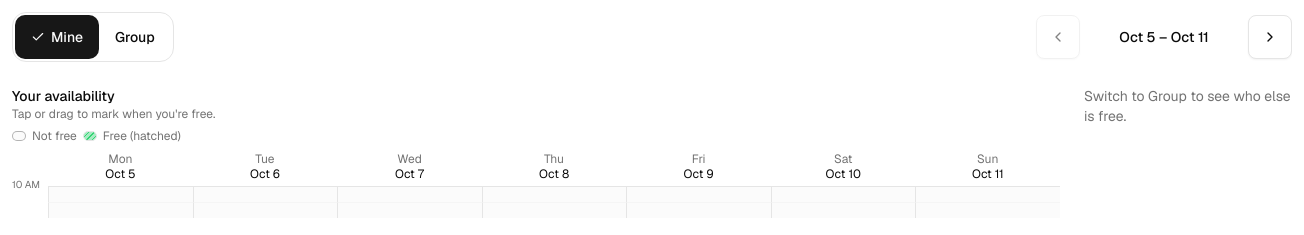
it: AvailabilityGrid › pages one calendar week at a time when more than five days are set
Check: the text "Oct 5 – Oct 11" is shown, box [1119,28,1209,46]
Check: the number of buttons named "Mon, Oct 5, 10:00 AM" is 1, box [48,186,193,202]
Step 1. Click the button named "Next week" → [1270, 37], box [1248,15,1292,59]
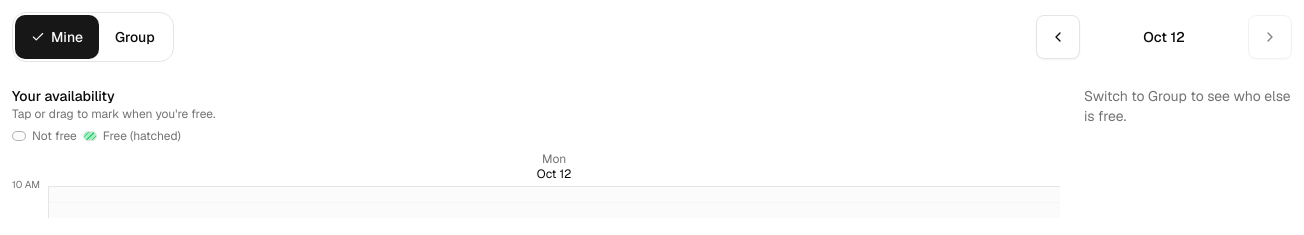
Check: the number of buttons named "Mon, Oct 12, 10:00 AM" is 1, box [48,186,1060,202]
Check: the text "Oct 12" is shown, box [1143,28,1185,46]
Check: the text "Oct 5" is gone
